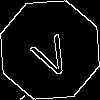V: (25, 25, 75, 81)
